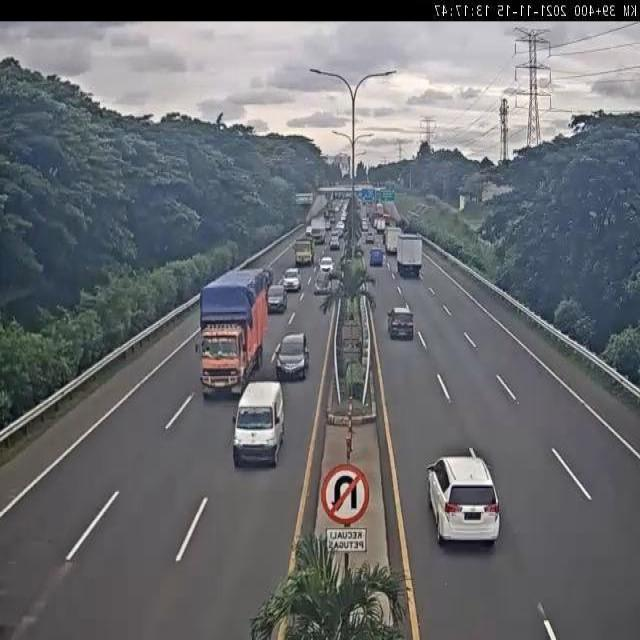Car: (426, 454, 500, 545), (233, 380, 285, 467), (274, 332, 310, 382), (387, 304, 415, 340), (266, 284, 288, 313), (282, 268, 302, 292), (314, 270, 332, 295), (258, 267, 274, 288), (369, 248, 384, 267), (320, 256, 334, 273), (374, 228, 384, 244), (328, 207, 337, 224), (334, 192, 350, 201), (330, 236, 340, 250), (354, 246, 364, 258), (336, 221, 345, 234), (362, 201, 369, 215), (366, 232, 374, 244), (361, 218, 368, 231), (324, 220, 332, 231), (306, 226, 313, 238), (324, 211, 330, 220)
Truck: (192, 268, 264, 391), (396, 233, 423, 277), (294, 238, 314, 266), (384, 226, 399, 255), (373, 217, 386, 233), (382, 213, 392, 226), (376, 202, 384, 216)
